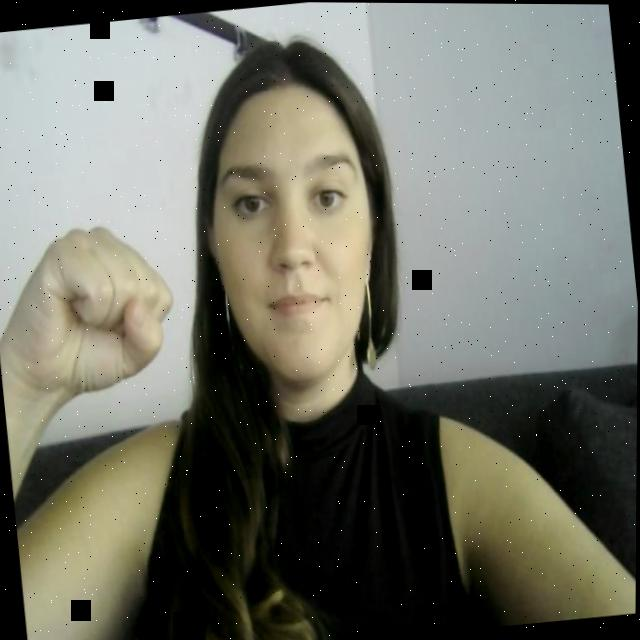Rock: (16, 208, 191, 402)
